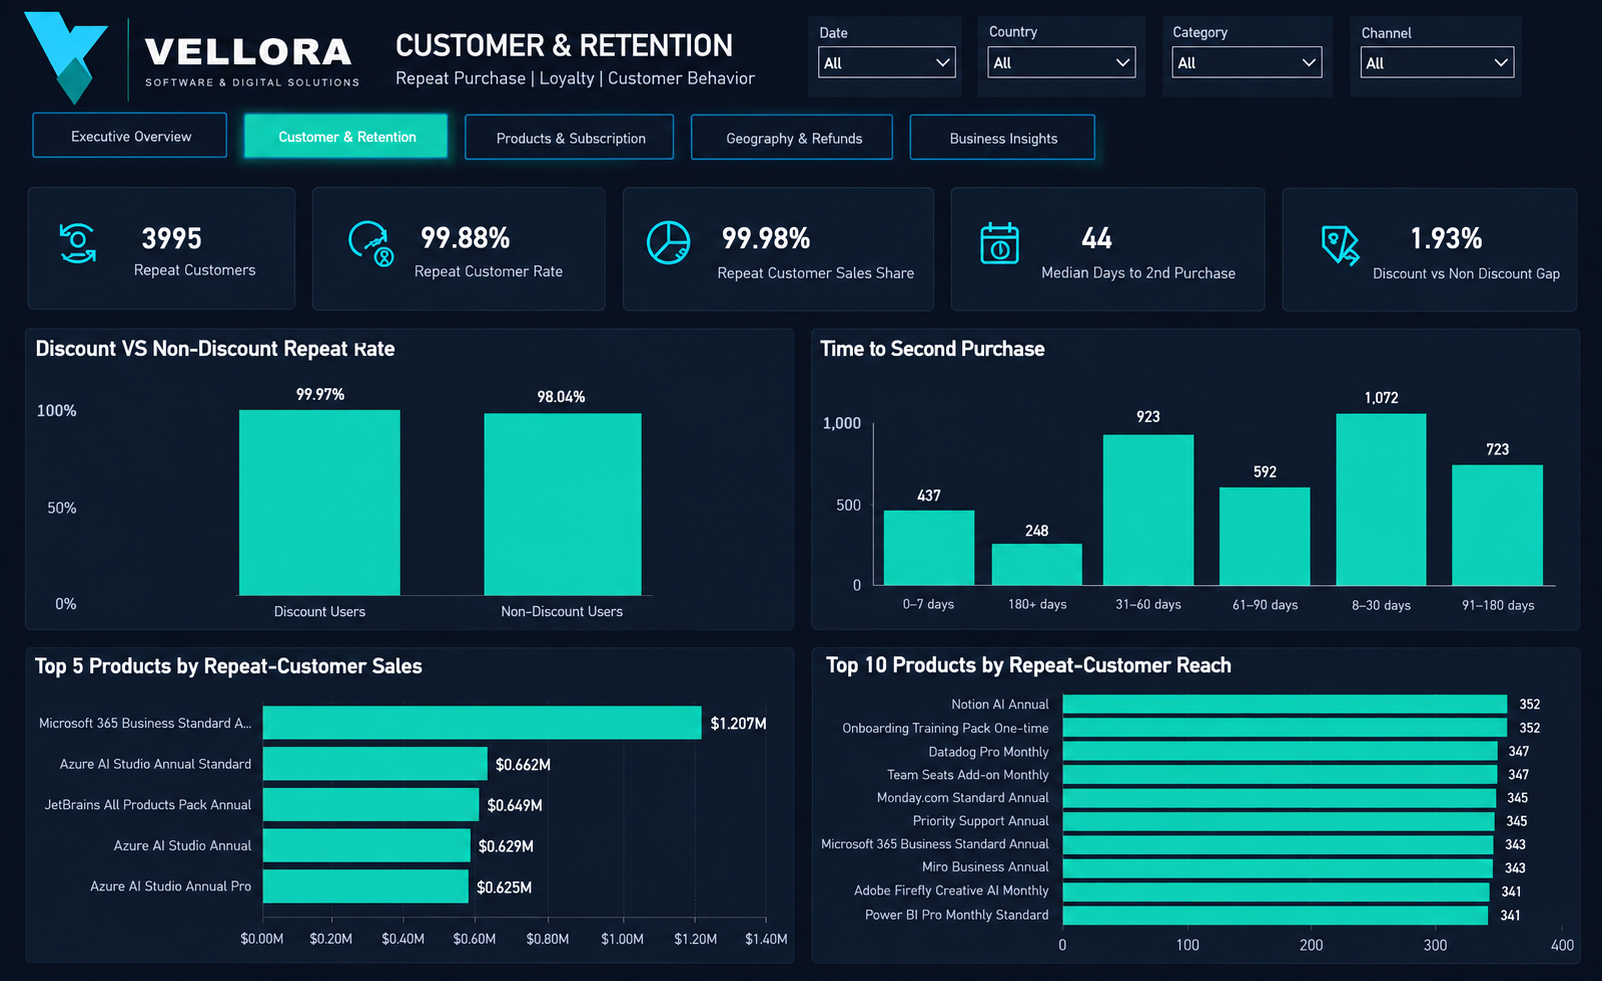

The page's visual inventory and layout, read from the dashboard file:
{"tool":"powerbi","page":{"name":"Customer & Retention","canvas":[1600,1000],"ordinal":1},"visuals":[{"type":"card","fields":{"Values":["_Measures.Repeat Customer Rate"]},"box":[328.3,208.3,245,135],"z":0},{"type":"card","fields":{"Values":["_Measures.Repeat Customers"]},"box":[66.7,210,225,135],"z":1000},{"type":"card","fields":{"Values":["_Measures.Repeat Customer Sales Share"]},"box":[611.7,206.7,261.7,135],"z":2000},{"type":"card","fields":{"Values":["_Measures.Median Days to 2nd Purchase"]},"box":[916.7,203.3,263.3,136.7],"z":3000},{"type":"card","fields":{"Values":["_Measures.Discount vs Non Discount Gap"]},"box":[1233.3,205,270,136.7],"z":5000},{"type":"clusteredColumnChart","title":"Discount VS Non-Discount Repeat Rate","fields":{"Category":["Repeat Type.Type"],"Y":["_Measures.Repeat Rate by Type"]},"box":[30,360,723.3,286.7],"z":6000},{"type":"clusteredColumnChart","title":"Time to Second Purchase","fields":{"Y":["CountNonNull(Customer Purchase Summary.customer_id)"],"Category":["Customer Purchase Summary.Purchase Gap Label"]},"box":[770,364,806,264],"z":7000},{"type":"clusteredBarChart","title":"Top 10 Products by Repeat-Customer Reach","fields":{"Category":["Products_final__3.product_name"],"Y":["_Measures.Repeat Customer Reach"]},"box":[770,646,806,330],"z":8000},{"type":"clusteredBarChart","title":"Top 5 Products by Repeat-Customer Sales","fields":{"Category":["Products_final__3.product_name"],"Y":["_Measures.Repeat Customer Sales"]},"box":[30,663.3,723.3,311.7],"z":9000},{"type":"slicer","fields":{"Values":["Dim_Date.Date"]},"box":[826.3,23.7,161.7,83.3],"z":10000},{"type":"slicer","fields":{"Values":["Events_updated.country"]},"box":[999.7,22,161.7,83.3],"z":11000},{"type":"slicer","title":"Channel","fields":{"Values":["Events_updated.channel"]},"box":[1334.7,23.7,170,82.5],"z":12000},{"type":"slicer","fields":{"Values":["Products_final__3.category"]},"box":[1173,23.7,150,81.7],"z":13000},{"type":"image","box":[0,0,468.3,146.7],"z":14000},{"type":"textbox","box":[393.3,35,360,75],"z":15000},{"type":"image","box":[78.3,231.7,50,75],"z":16000},{"type":"image","box":[343.3,230,50,75],"z":17000},{"type":"image","box":[1246.7,228.3,63.3,76.7],"z":19000},{"type":"image","box":[926.7,228.3,53.3,75],"z":20000},{"type":"image","box":[626.7,228.3,50,75],"z":21000},{"type":"pageNavigator","box":[30,116.7,1050,60],"z":21001}]}

Visuals, with their boxes in screenshot pixels (x1, y1, x2, y2), scaled from the page's 1600x1000 canvas onto the 1602x981 screenshot:
card - _Measures.Repeat Customer Rate: box=[329, 204, 574, 337]
card - _Measures.Repeat Customers: box=[67, 206, 292, 338]
card - _Measures.Repeat Customer Sales Share: box=[612, 203, 874, 335]
card - _Measures.Median Days to 2nd Purchase: box=[918, 199, 1181, 334]
card - _Measures.Discount vs Non Discount Gap: box=[1235, 201, 1505, 335]
"Discount VS Non-Discount Repeat Rate" clusteredColumnChart: box=[30, 353, 754, 634]
"Time to Second Purchase" clusteredColumnChart: box=[771, 357, 1578, 616]
"Top 10 Products by Repeat-Customer Reach" clusteredBarChart: box=[771, 634, 1578, 957]
"Top 5 Products by Repeat-Customer Sales" clusteredBarChart: box=[30, 651, 754, 956]
slicer - Dim_Date.Date: box=[827, 23, 989, 105]
slicer - Events_updated.country: box=[1001, 22, 1163, 103]
"Channel" slicer: box=[1336, 23, 1507, 104]
slicer - Products_final__3.category: box=[1174, 23, 1325, 103]
image: box=[0, 0, 469, 144]
textbox: box=[394, 34, 754, 108]
image: box=[78, 227, 128, 301]
image: box=[344, 226, 394, 299]
image: box=[1248, 224, 1312, 299]
image: box=[928, 224, 981, 298]
image: box=[627, 224, 678, 298]
pageNavigator: box=[30, 114, 1081, 173]
